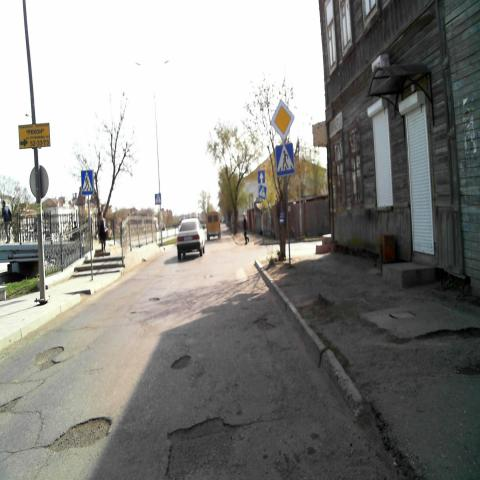2_1: (270, 98, 294, 141)
5_19_1: (276, 144, 294, 176), (81, 169, 94, 195), (258, 186, 266, 199), (155, 194, 161, 206)
5_5: (258, 170, 265, 184)
